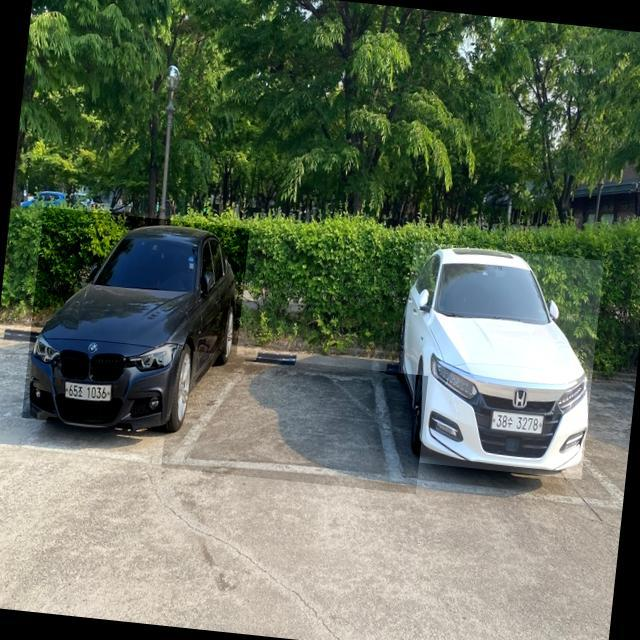empty: (162, 356, 416, 487)
occupied: (21, 206, 249, 438), (391, 240, 604, 480)
